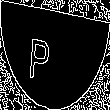P_N: (43, 27, 67, 83)
